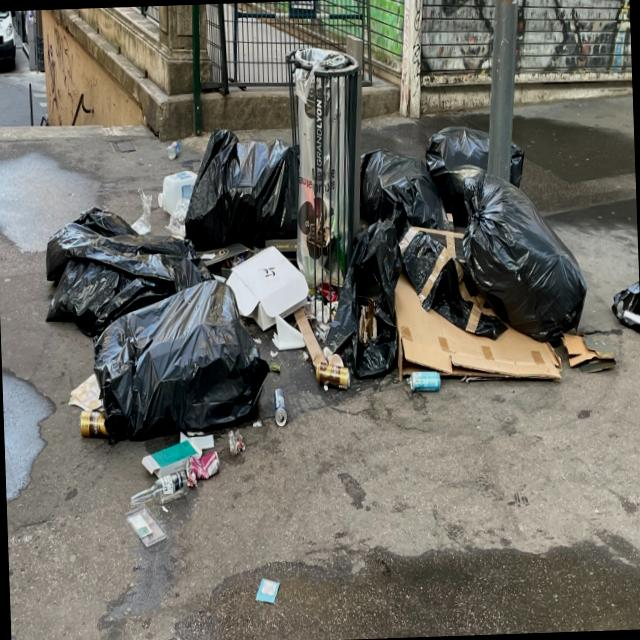garbage: (0, 35, 605, 462)
